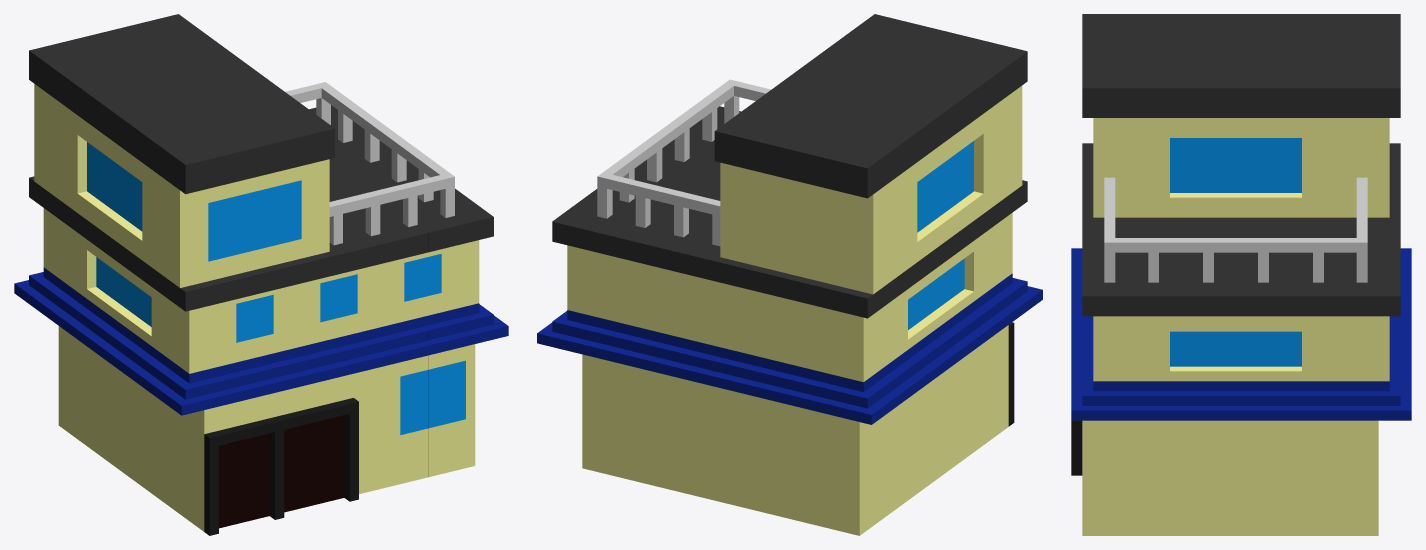
Rendered from House_obj.obj.
3 renders of one model, left to right at view 1: azimuth 30°, elevation 25°; view 2: azimuth 150°, elevation 25°; view 3: azimuth 270°, elevation 25°, orthographic. The views are drawn at different scales.
Visible parts, largest first — view 1: 立方体.15748; view 2: 立方体.15748; view 3: 立方体.15748.
Boxes of the visible parts, x1,y1,x2,y2 form: 立方体.15748: (14, 14, 508, 535); 立方体.15748: (537, 14, 1042, 535); 立方体.15748: (1071, 14, 1411, 535).
Size of the model in its own units: 35 by 38 by 31.
